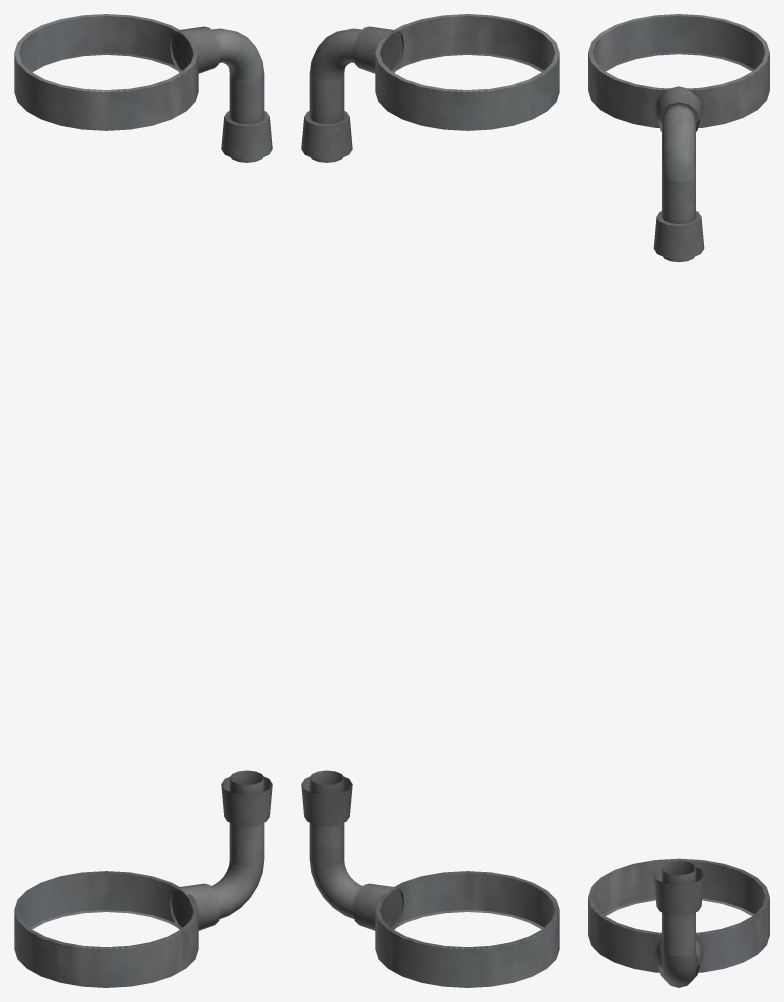
The model's file is frontMountMast-v1-galvanised.glb.
3 renders of one model, left to right at view 1: azimuth 30°, elevation 25°; view 2: azimuth 150°, elevation 25°; view 3: azimuth 270°, elevation 25°, orthographic.
Parts seen in each view (by area): view 1: frontMountMast-v1-galvanised; view 2: frontMountMast-v1-galvanised; view 3: frontMountMast-v1-galvanised.
Boxes of the visible parts, left/top/right/bottom form: frontMountMast-v1-galvanised: left=14, top=14, right=272, bottom=987; frontMountMast-v1-galvanised: left=301, top=14, right=559, bottom=987; frontMountMast-v1-galvanised: left=588, top=14, right=769, bottom=987.
Size of the model in its own units: 0.3921 by 1.39 by 0.2581.
Materials: 1 (1 with a texture image).
